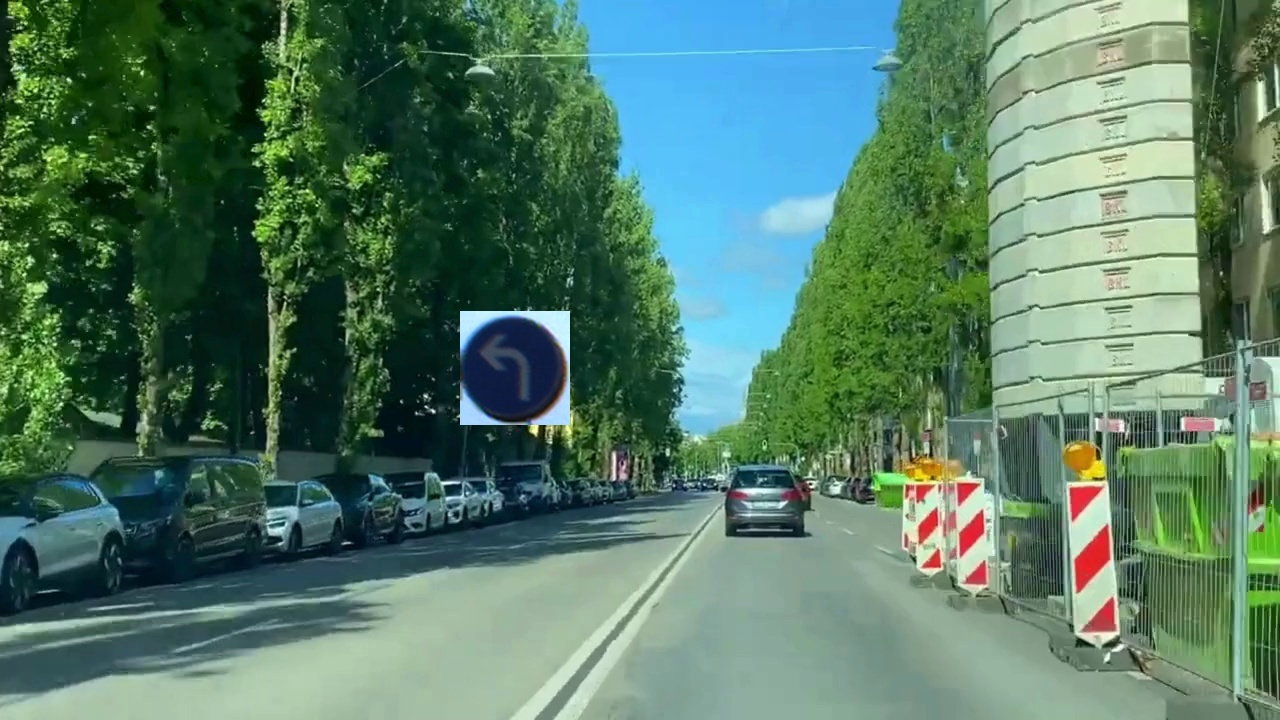Turn left: (460, 311, 570, 425)
